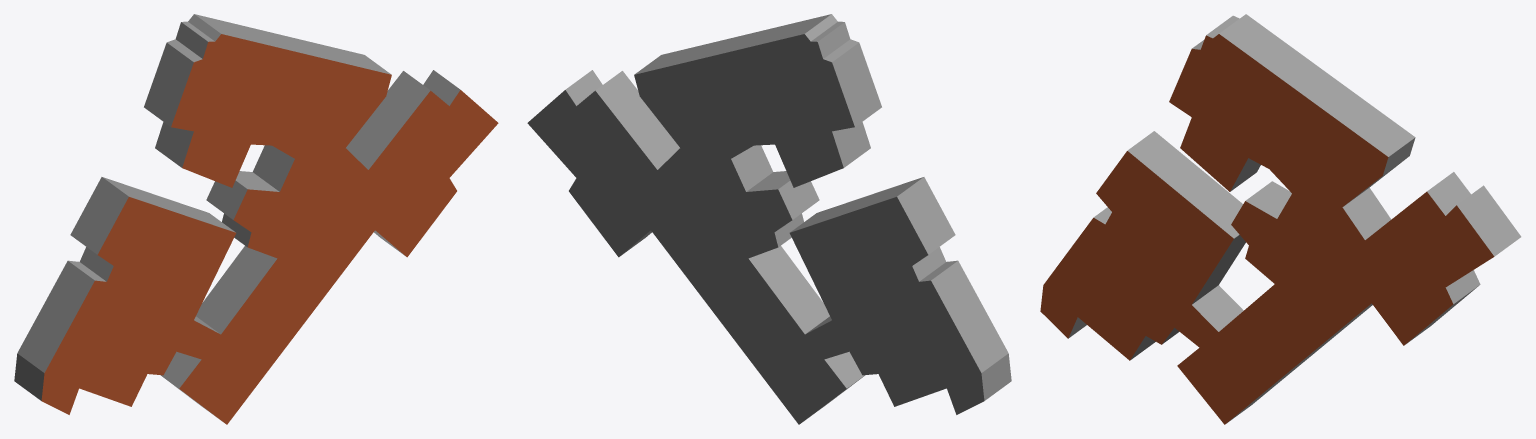
File: construction_5116_assumed_A_Casa_h6m.obj
3 renders of one model, left to right at view 1: azimuth 30°, elevation 25°; view 2: azimuth 150°, elevation 25°; view 3: azimuth 330°, elevation 25°, orthographic.
Visible parts, largest first — view 1: construction_5116_assumed_A_Casa; view 2: construction_5116_assumed_A_Casa; view 3: construction_5116_assumed_A_Casa.
Boxes of the visible parts, x1,y1,x2,y2 form: construction_5116_assumed_A_Casa: (14, 14, 498, 424); construction_5116_assumed_A_Casa: (527, 14, 1011, 424); construction_5116_assumed_A_Casa: (1040, 14, 1521, 424).
Size of the model in its own units: 58.11 by 47.67 by 6.
